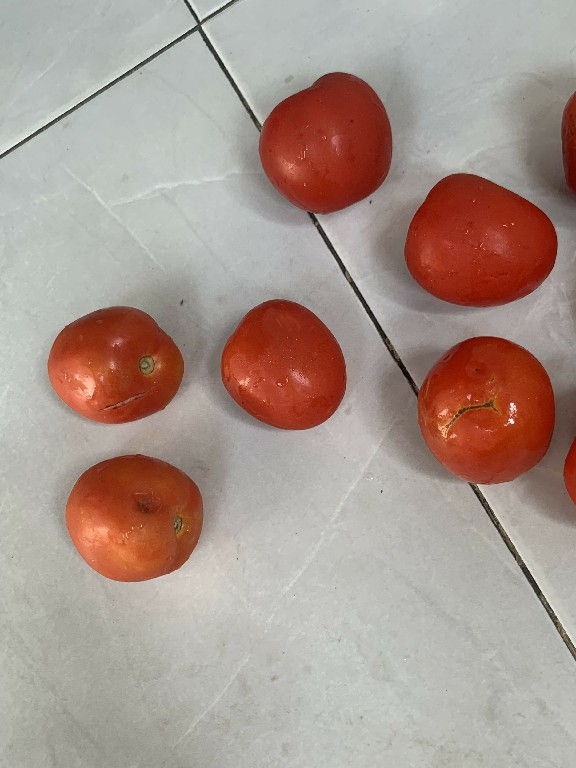NG: (413, 326, 560, 488), (58, 447, 203, 587), (46, 301, 188, 422)
OK: (396, 168, 559, 316), (257, 61, 394, 214), (214, 296, 351, 442)
